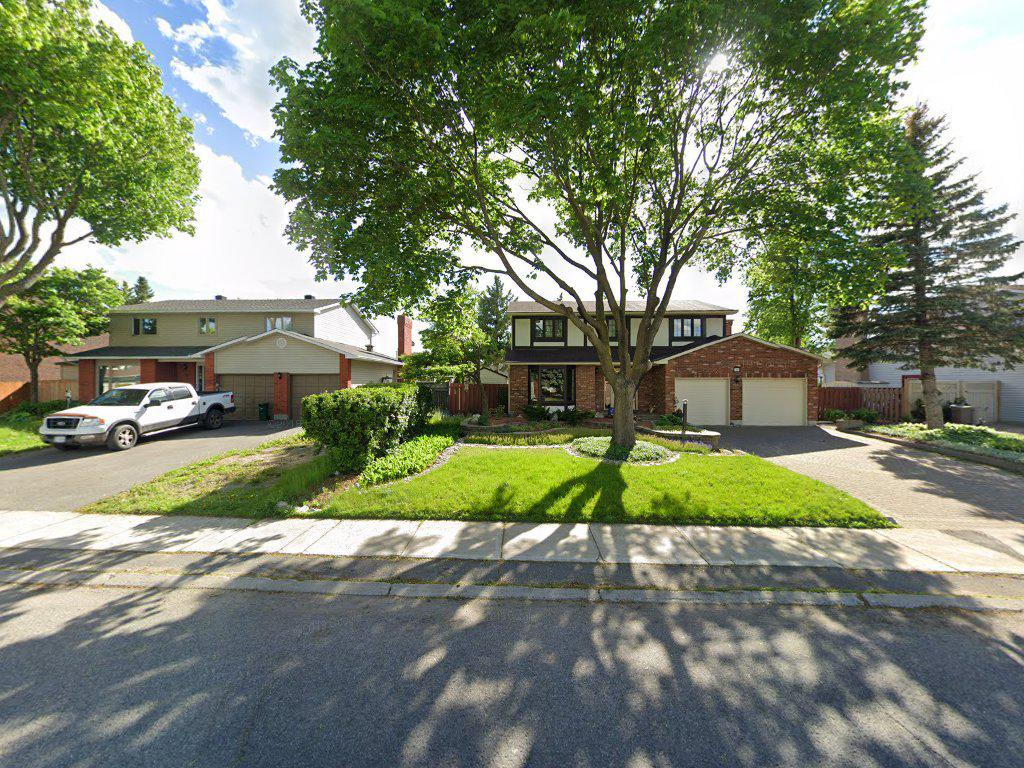trunk: (599, 342, 652, 460), (919, 368, 948, 433)
